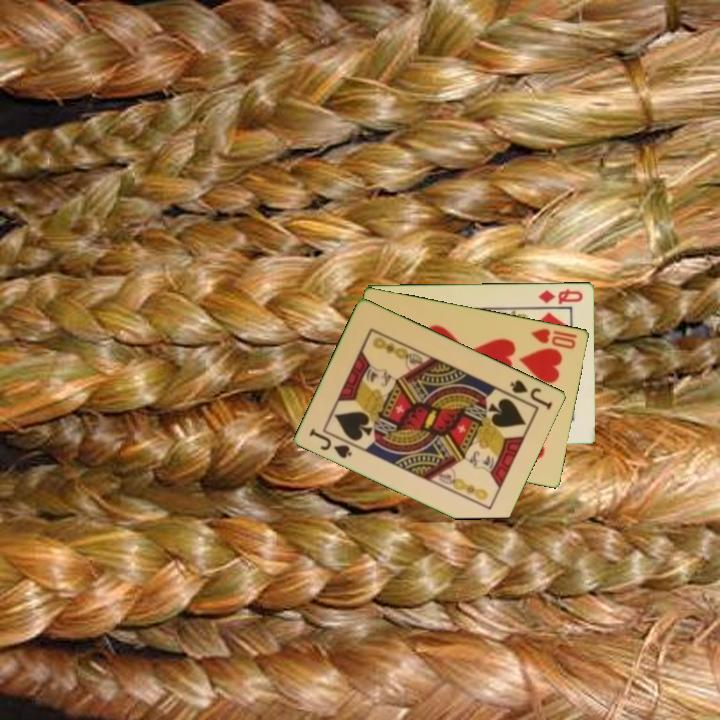10h: (528, 324, 579, 352)
Js: (306, 424, 359, 461), (507, 376, 556, 412)
Qd: (535, 285, 586, 307)
